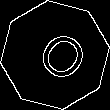O_SW: (22, 22, 88, 88)
